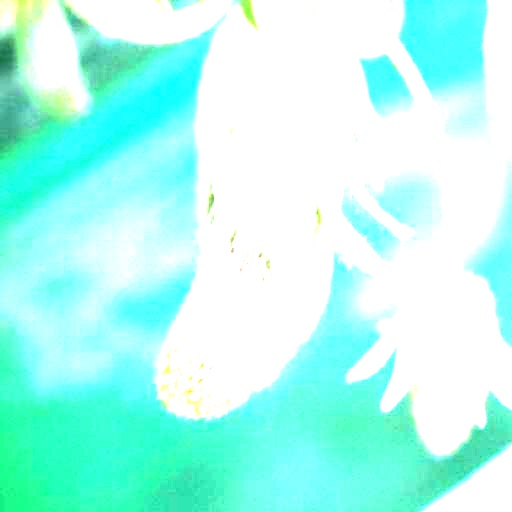Gray Mold: (156, 38, 354, 420)
